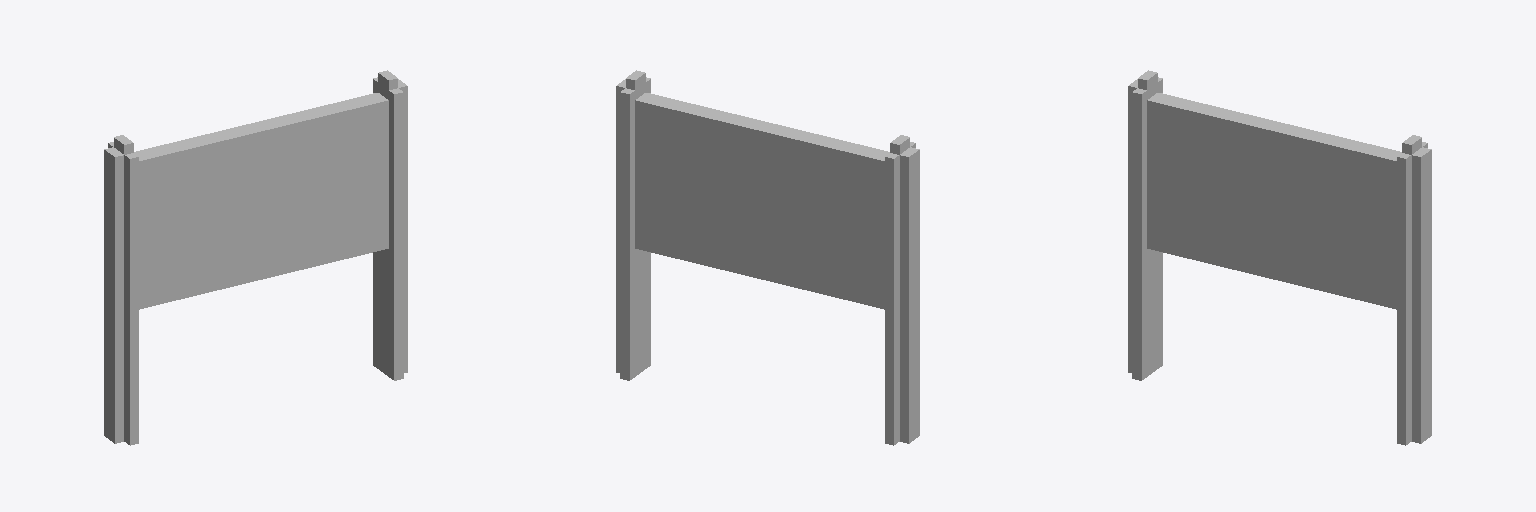
The model's file is farm.obj.
3 views of the same model, side by side, from view 1: azimuth 30°, elevation 25°; view 2: azimuth 150°, elevation 25°; view 3: azimuth 330°, elevation 25° (orthographic).
Parts seen in each view (by area): view 1: object 1; view 2: object 1; view 3: object 1.
Boxes of the visible parts, x1=… form: object 1: x1=104, y1=70, x2=407, y2=445; object 1: x1=616, y1=70, x2=919, y2=445; object 1: x1=1128, y1=70, x2=1431, y2=445.
Bounding box in the file's own units: 3.1 × 3 × 0.4.